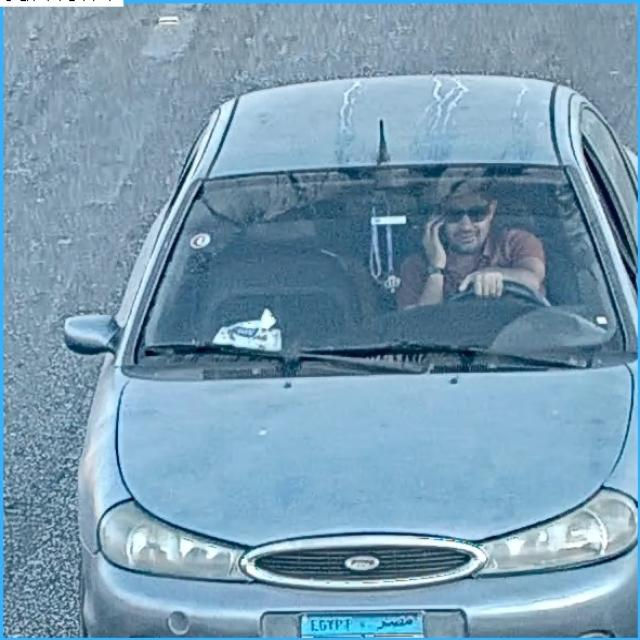windshield: (141, 175, 624, 362)
